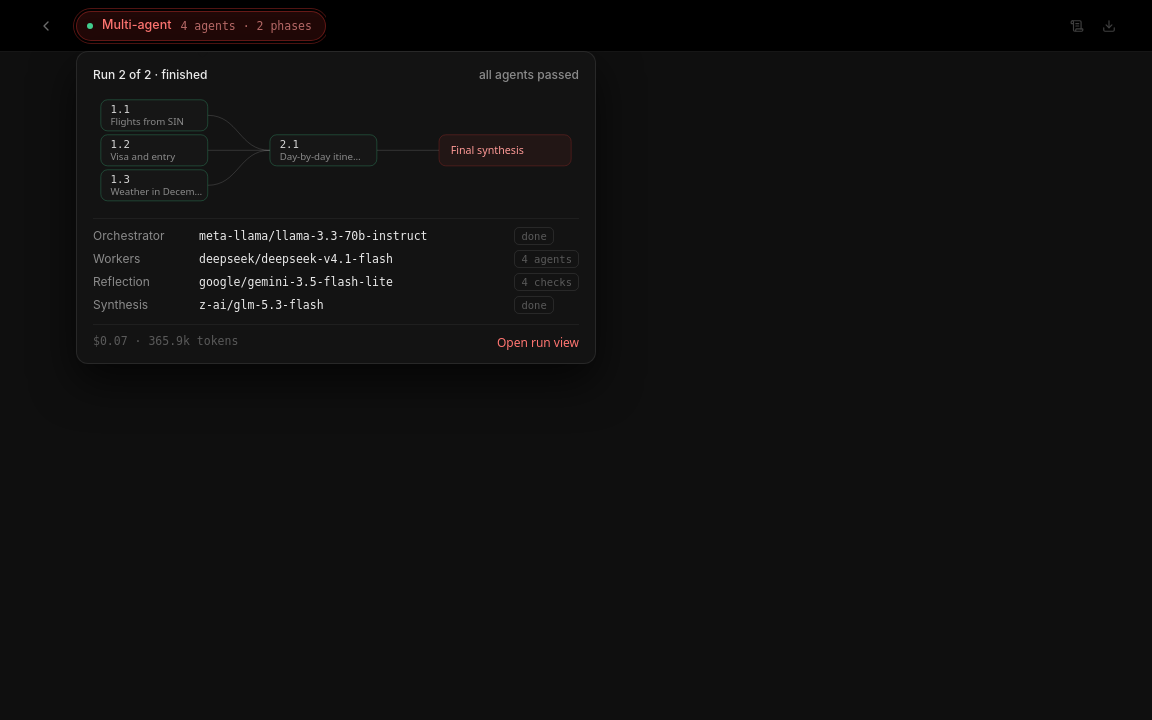
Test: hover card › opens on keyboard focus, closes on Escape without the Escape reaching the dock, and on blur
The image size is (1152, 720).
Expected: the dialog with test id "mode-card" is shown, [76, 50, 596, 364]
Press Escape in the button with test id "mode-pill", box [76, 10, 326, 40]
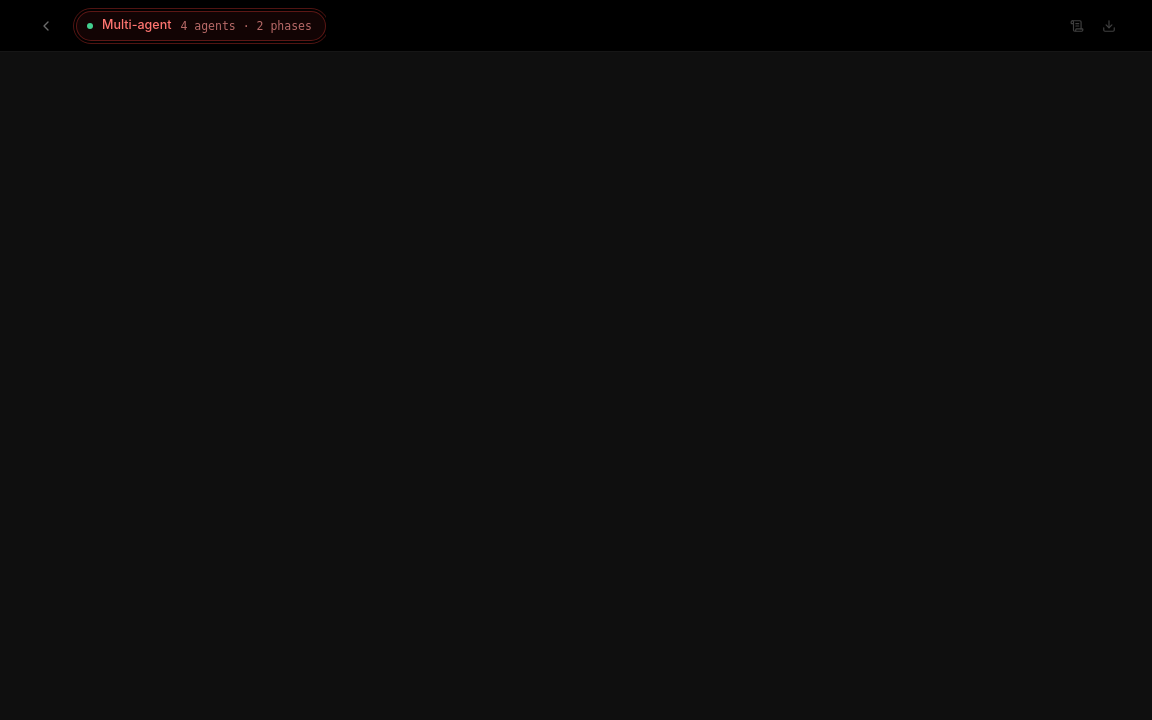
Expected: the dialog with test id "mode-card" is gone
Hover over the element showing "Multi-agent 4 agents · 2 phases".
mouse_move(201, 26)  # box [76, 10, 326, 40]
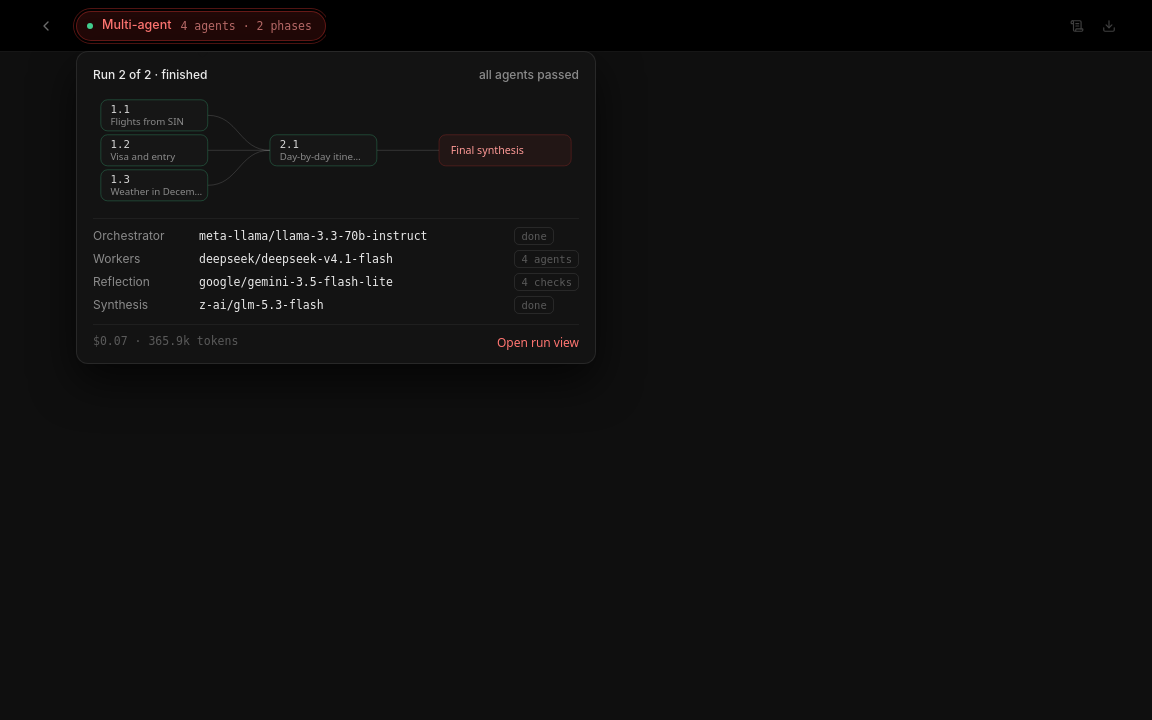
Expected: the dialog with test id "mode-card" is shown, [76, 50, 596, 364]
Leave the button with test id "mode-pill", box [76, 10, 326, 40]
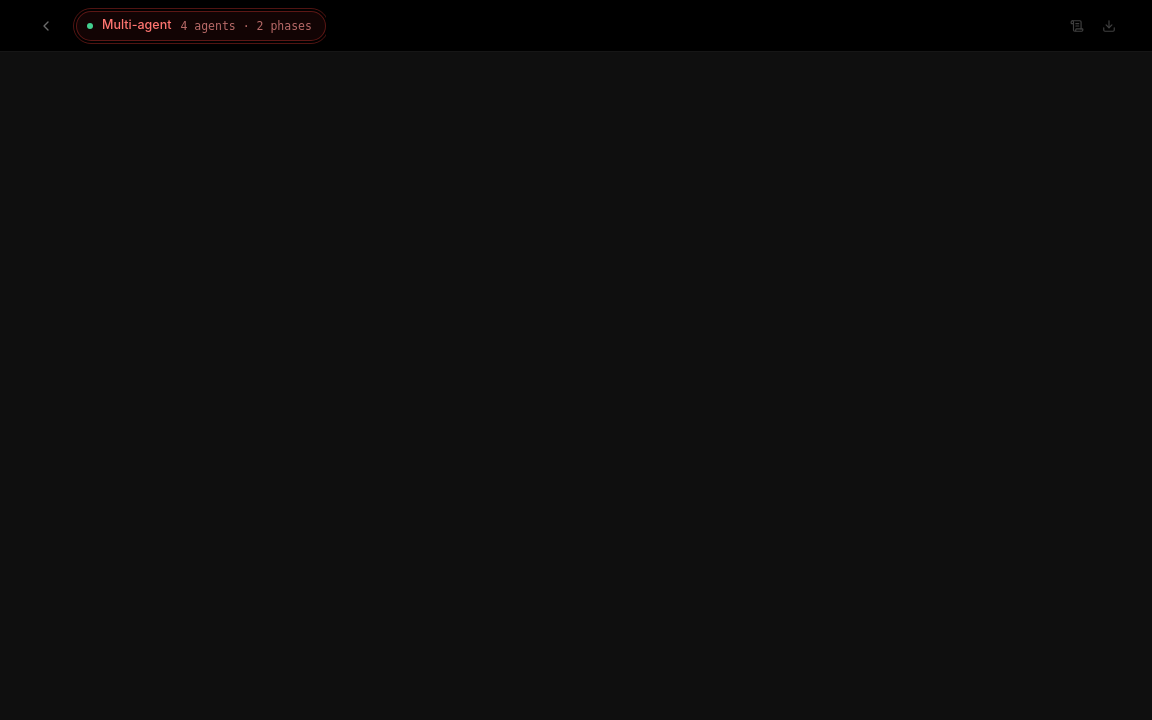
Expected: the dialog with test id "mode-card" is gone
